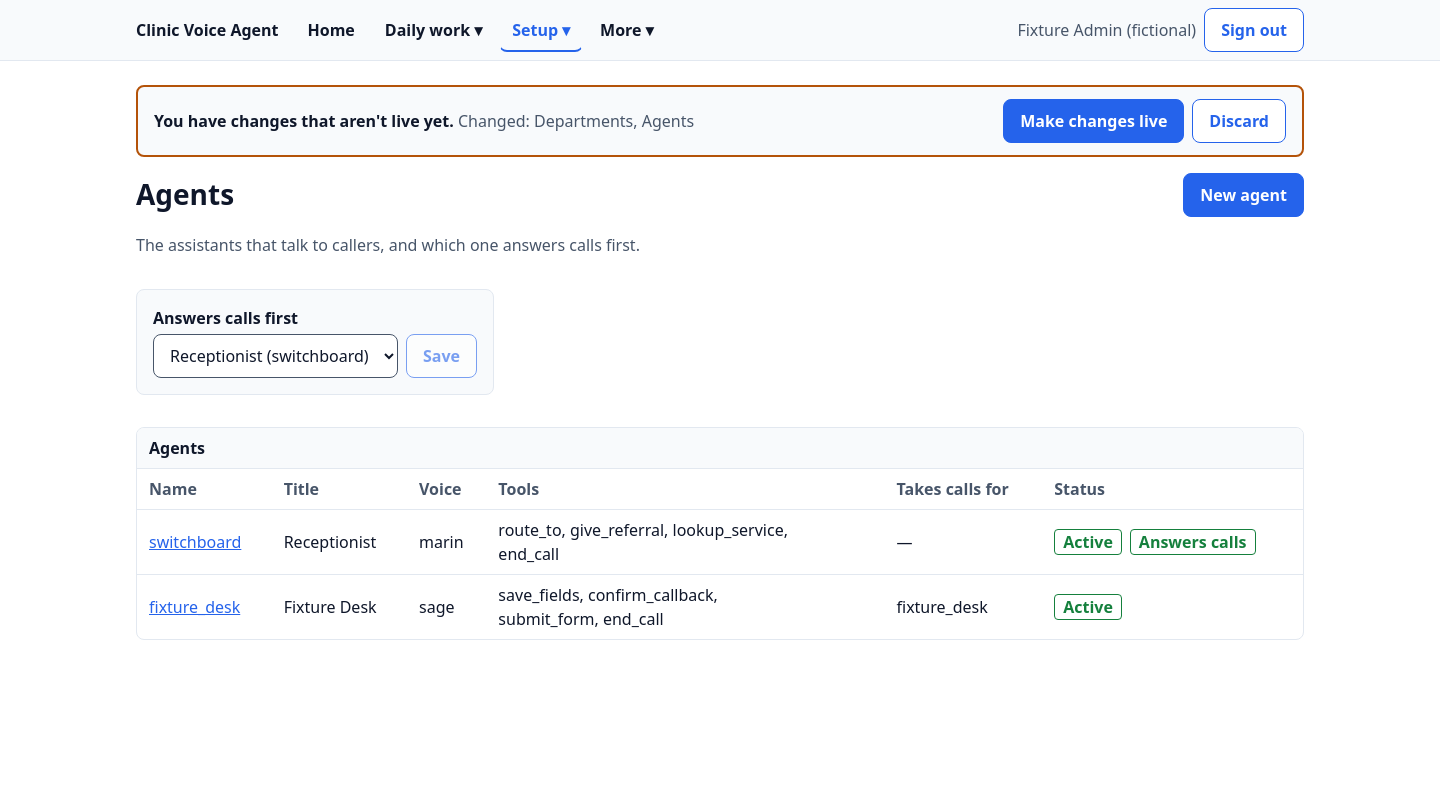
Scenario: T-FE: changes bar › makes changes live after confirming, and explains a conflict
Click the button with test id "changes-make-live".
click(1094, 121)  # box [1003, 99, 1184, 143]
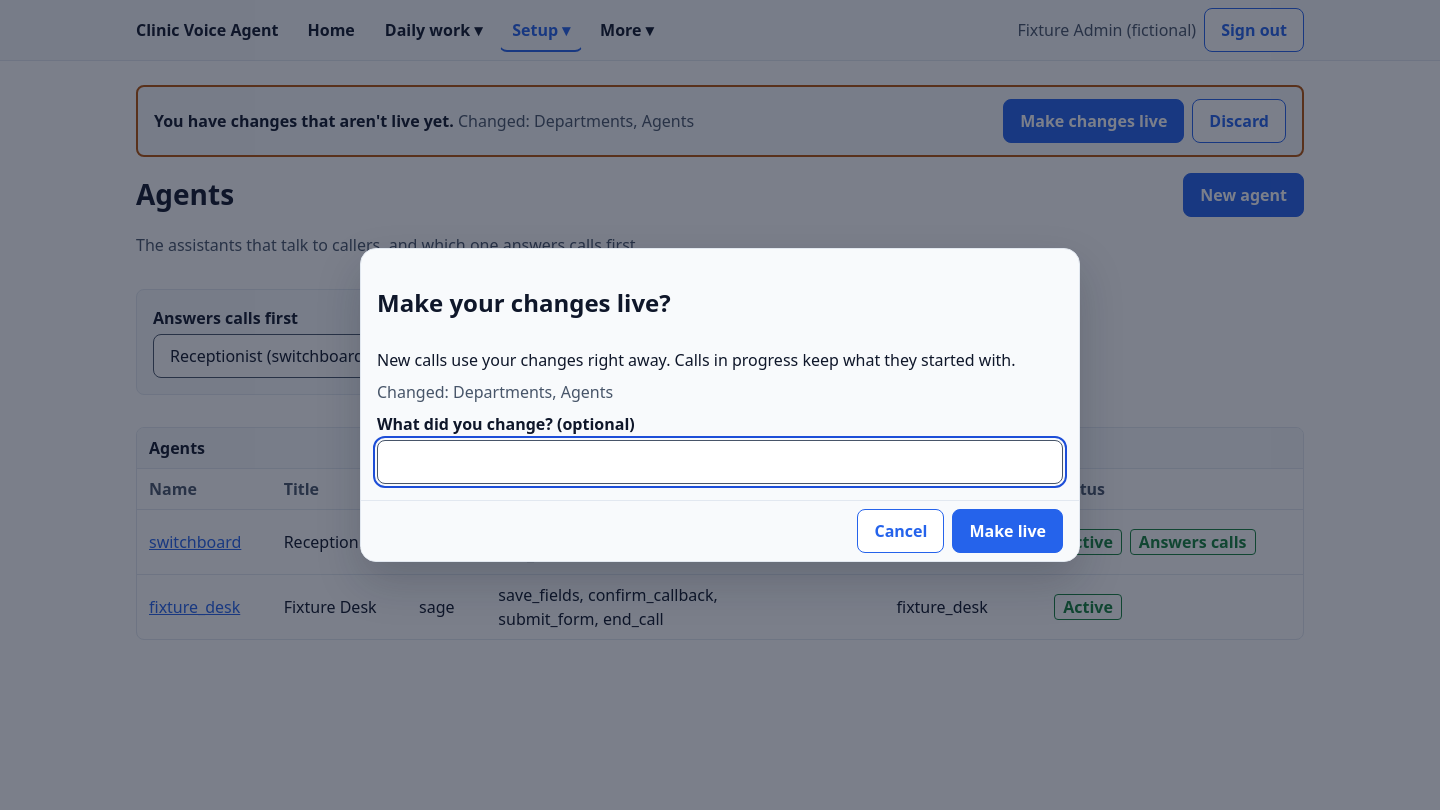
Now the dialog with test id "changes-confirm" shows "New calls use your changes right away", box [377, 349, 1016, 371]
Click the button with test id "changes-confirm-confirm".
click(1008, 531)  # box [952, 509, 1063, 553]
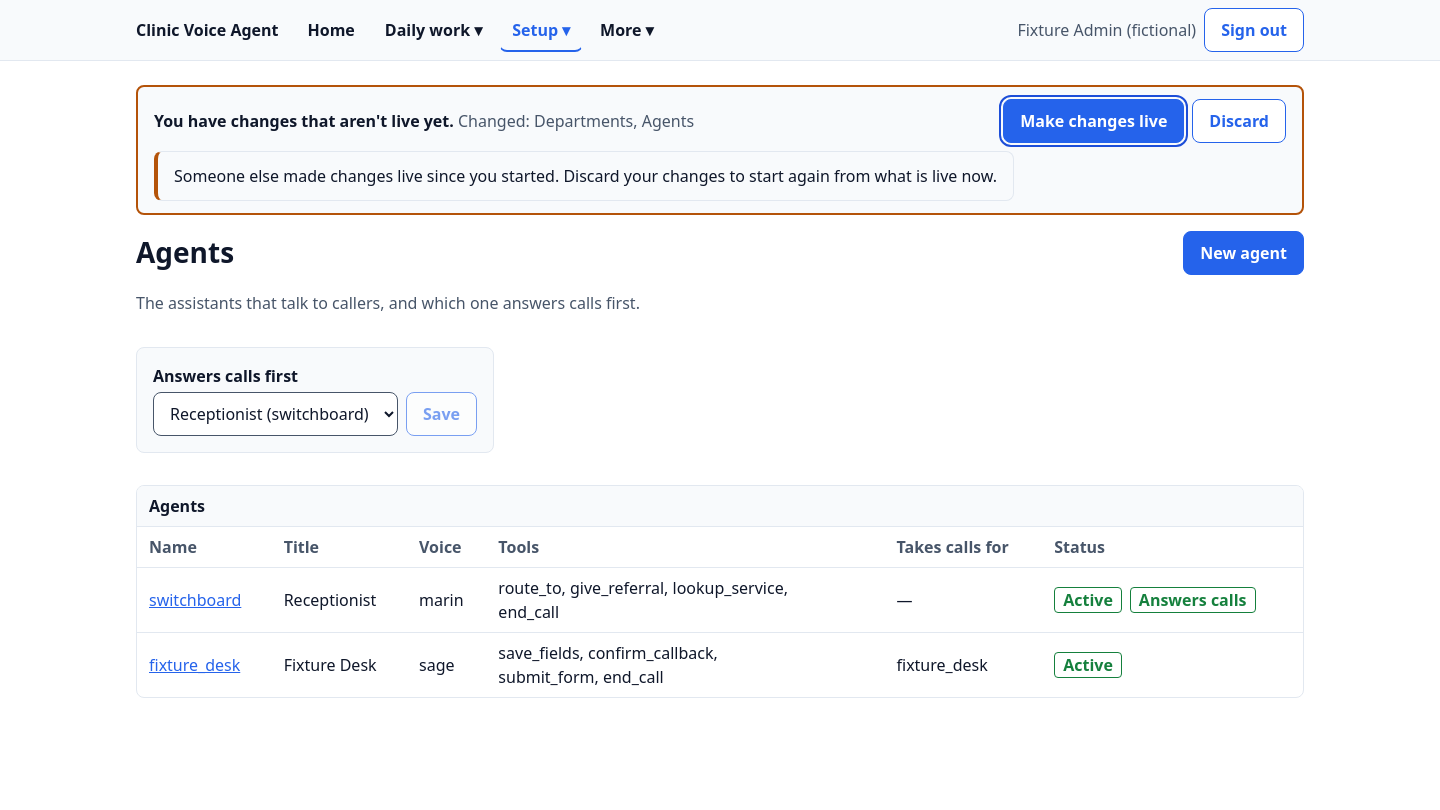
Now the message with test id "changes-result" shows "Someone else made changes live", box [174, 165, 997, 187]
Click the button with test id "changes-make-live".
click(1094, 121)  # box [1003, 99, 1184, 143]
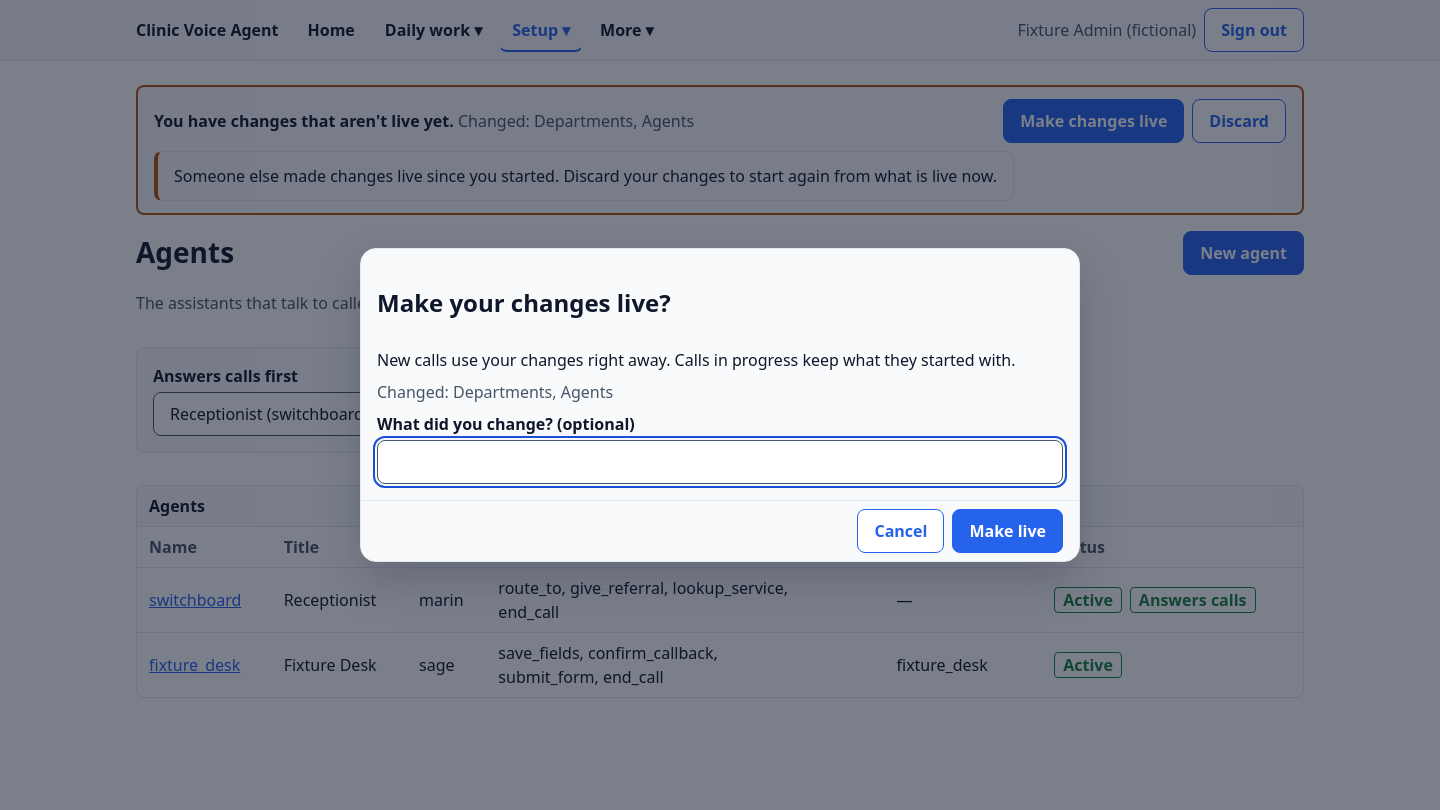
Click the button with test id "changes-confirm-confirm".
click(1008, 531)  # box [952, 509, 1063, 553]
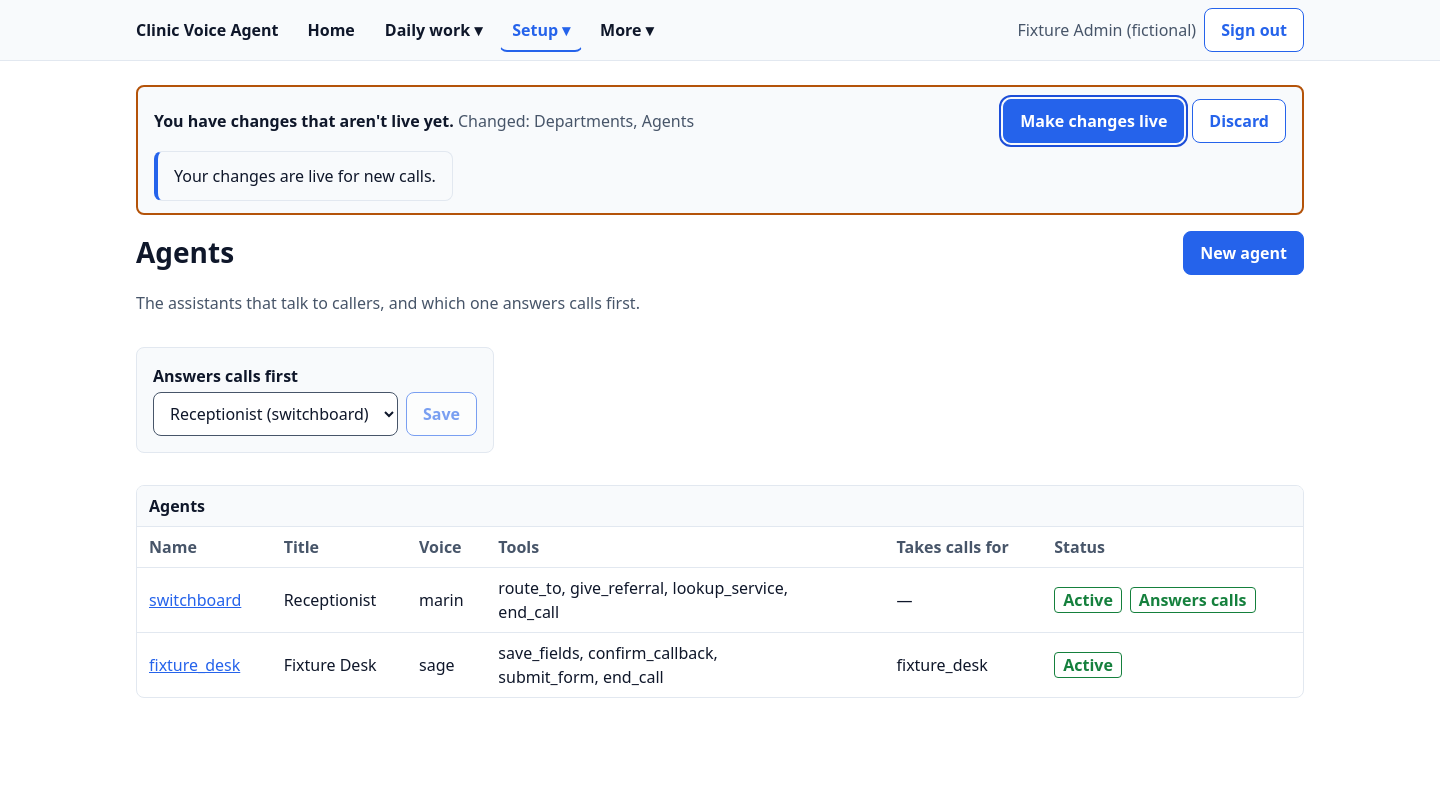
Now the message with test id "changes-result" reads "Your changes are live for new calls.", box [174, 165, 436, 187]
